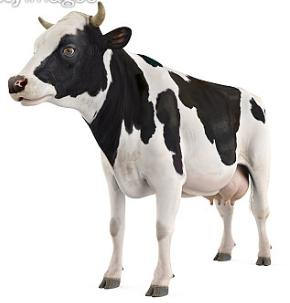cow: (7, 1, 290, 298)
